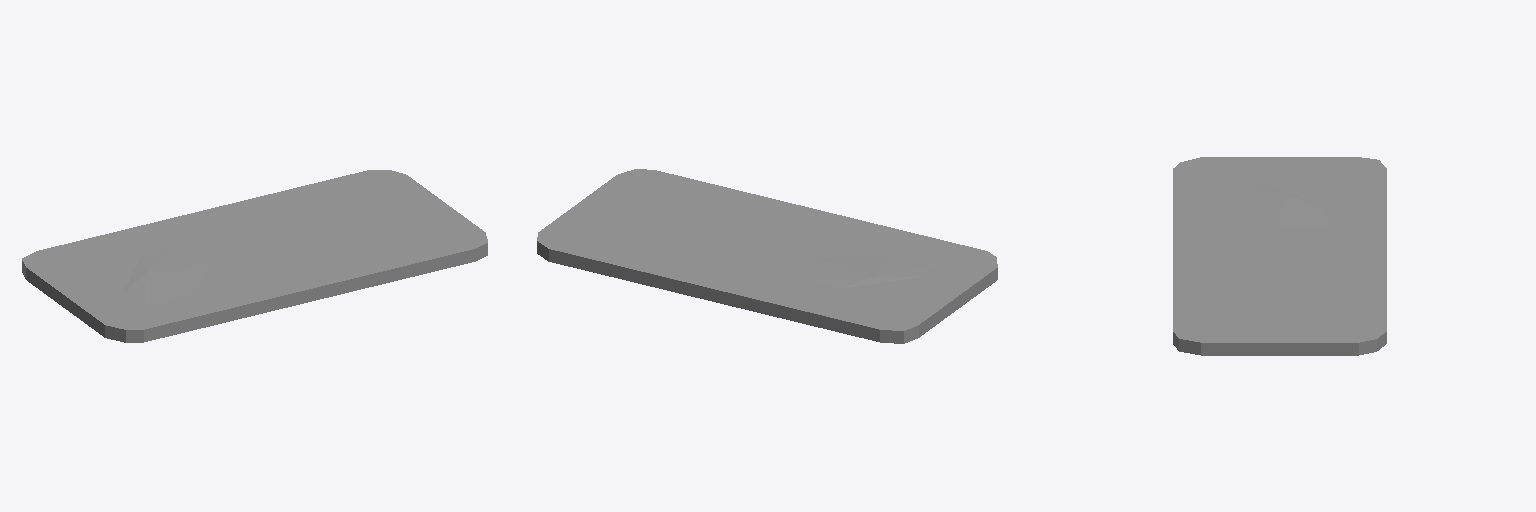
File: Bed.obj
3 views of the same model, side by side, from view 1: azimuth 30°, elevation 25°; view 2: azimuth 150°, elevation 25°; view 3: azimuth 270°, elevation 25° (orthographic).
Parts seen in each view (by area): view 1: Mesh.011_pCube9; view 2: Mesh.011_pCube9; view 3: Mesh.011_pCube9.
Boxes of the visible parts, <box> form: Mesh.011_pCube9: <box>22,170,487,342</box>; Mesh.011_pCube9: <box>537,169,997,343</box>; Mesh.011_pCube9: <box>1173,157,1386,355</box>.
Size of the model in its own units: 143 by 4.86 by 69.78.